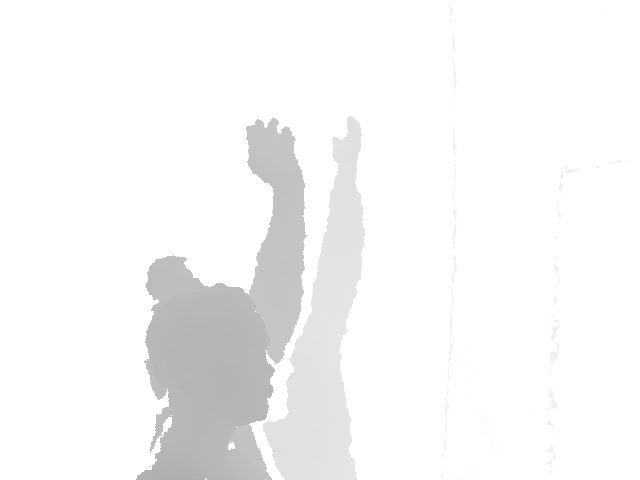hand: (246, 118, 305, 192), (331, 116, 361, 170)
head: (147, 281, 268, 425)
person: (132, 118, 307, 480), (261, 116, 366, 480)
